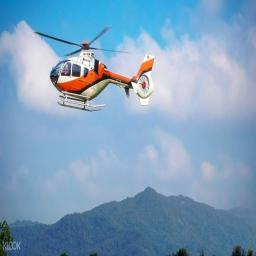helicopter: (35, 32, 159, 114)
